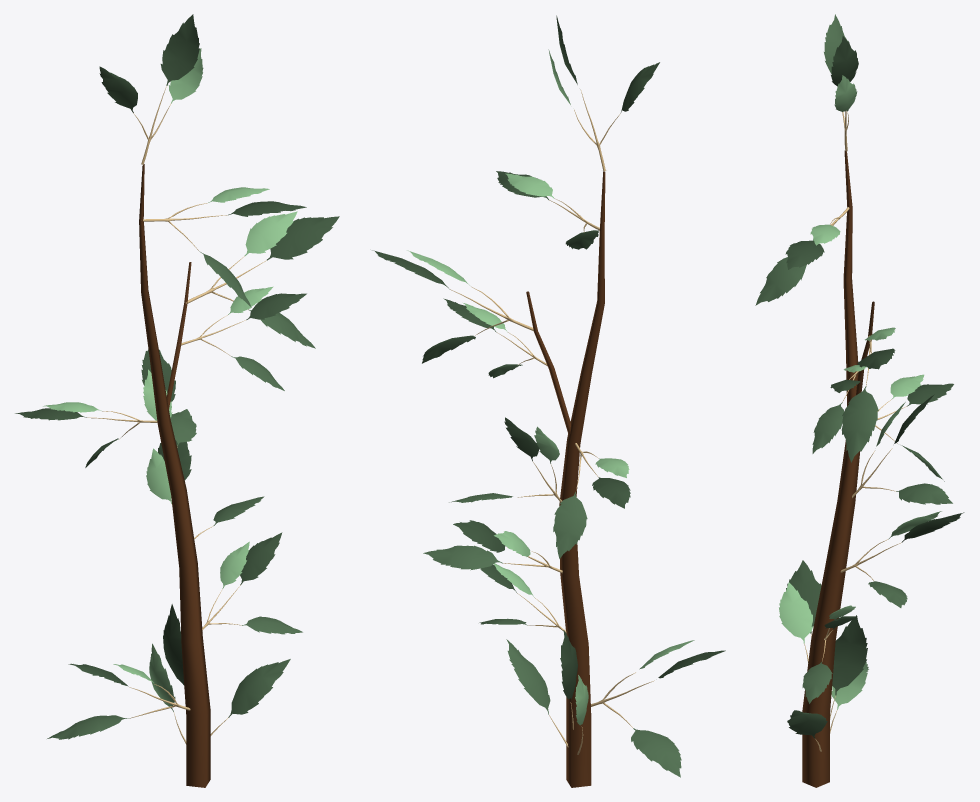
The model's file is Tree12.fbx.
3 renders of one model, left to right at view 1: azimuth 30°, elevation 25°; view 2: azimuth 150°, elevation 25°; view 3: azimuth 270°, elevation 25°, orthographic. The views are drawn at different scales.
Visible parts, largest first — view 1: Árbol.002, Hojas|tree|Dupli|9, Hojas|tree|Dupli|2, Hojas|tree|Dupli|, Hojas|tree|Dupli|8, Hojas|tree|Dupli|3, Hojas|tree|Dupli|6, Hojas|tree|Dupli|4, Hojas|tree|Dupli|5, Hojas|tree|Dupli|1, Hojas|tree|Dupli|7; view 2: Árbol.002, Hojas|tree|Dupli|7, Hojas|tree|Dupli|4, Hojas|tree|Dupli|, Hojas|tree|Dupli|5, Hojas|tree|Dupli|9, Hojas|tree|Dupli|6, Hojas|tree|Dupli|1, Hojas|tree|Dupli|2, Hojas|tree|Dupli|3, Hojas|tree|Dupli|8; view 3: Árbol.002, Hojas|tree|Dupli|, Hojas|tree|Dupli|9, Hojas|tree|Dupli|6, Hojas|tree|Dupli|5, Hojas|tree|Dupli|2, Hojas|tree|Dupli|4, Hojas|tree|Dupli|1, Hojas|tree|Dupli|7, Hojas|tree|Dupli|3, Hojas|tree|Dupli|8.
Boxes of the visible parts, x1=… form: Árbol.002: x1=139, y1=164, x2=210, y2=787; Hojas|tree|Dupli|9: x1=186, y1=211, x2=339, y2=348; Hojas|tree|Dupli|2: x1=99, y1=14, x2=203, y2=164; Hojas|tree|Dupli|: x1=149, y1=604, x2=290, y2=744; Hojas|tree|Dupli|8: x1=202, y1=532, x2=302, y2=634; Hojas|tree|Dupli|3: x1=181, y1=286, x2=306, y2=390; Hojas|tree|Dupli|6: x1=143, y1=187, x2=306, y2=307; Hojas|tree|Dupli|4: x1=146, y1=440, x2=264, y2=538; Hojas|tree|Dupli|5: x1=47, y1=663, x2=190, y2=739; Hojas|tree|Dupli|1: x1=141, y1=349, x2=196, y2=447; Hojas|tree|Dupli|7: x1=15, y1=402, x2=157, y2=467; Árbol.002: x1=526, y1=171, x2=605, y2=787; Hojas|tree|Dupli|7: x1=553, y1=443, x2=630, y2=558; Hojas|tree|Dupli|4: x1=423, y1=520, x2=562, y2=573; Hojas|tree|Dupli|: x1=506, y1=630, x2=588, y2=754; Hojas|tree|Dupli|5: x1=591, y1=640, x2=725, y2=777; Hojas|tree|Dupli|9: x1=372, y1=250, x2=533, y2=363; Hojas|tree|Dupli|6: x1=496, y1=171, x2=599, y2=249; Hojas|tree|Dupli|1: x1=449, y1=417, x2=561, y2=502; Hojas|tree|Dupli|2: x1=548, y1=15, x2=659, y2=171; Hojas|tree|Dupli|3: x1=443, y1=298, x2=547, y2=378; Hojas|tree|Dupli|8: x1=479, y1=563, x2=566, y2=633; Árbol.002: x1=802, y1=151, x2=874, y2=787; Hojas|tree|Dupli|: x1=787, y1=615, x2=867, y2=751; Hojas|tree|Dupli|9: x1=841, y1=327, x2=895, y2=462; Hojas|tree|Dupli|6: x1=755, y1=207, x2=849, y2=305; Hojas|tree|Dupli|5: x1=779, y1=560, x2=868, y2=672; Hojas|tree|Dupli|2: x1=824, y1=14, x2=858, y2=151; Hojas|tree|Dupli|4: x1=840, y1=511, x2=964, y2=607; Hojas|tree|Dupli|1: x1=852, y1=394, x2=952, y2=504; Hojas|tree|Dupli|7: x1=875, y1=374, x2=953, y2=481; Hojas|tree|Dupli|3: x1=812, y1=365, x2=866, y2=453; Hojas|tree|Dupli|8: x1=802, y1=605, x2=855, y2=703.
Bounding box in the file's own units: 153 × 357 × 90.62.
